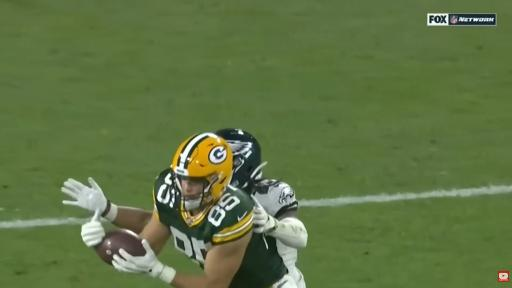Helmet: (171, 133, 232, 210), (216, 129, 266, 189)
Jersey: (154, 169, 254, 267), (254, 180, 298, 218)
Player: (113, 134, 296, 287), (216, 129, 307, 287)
